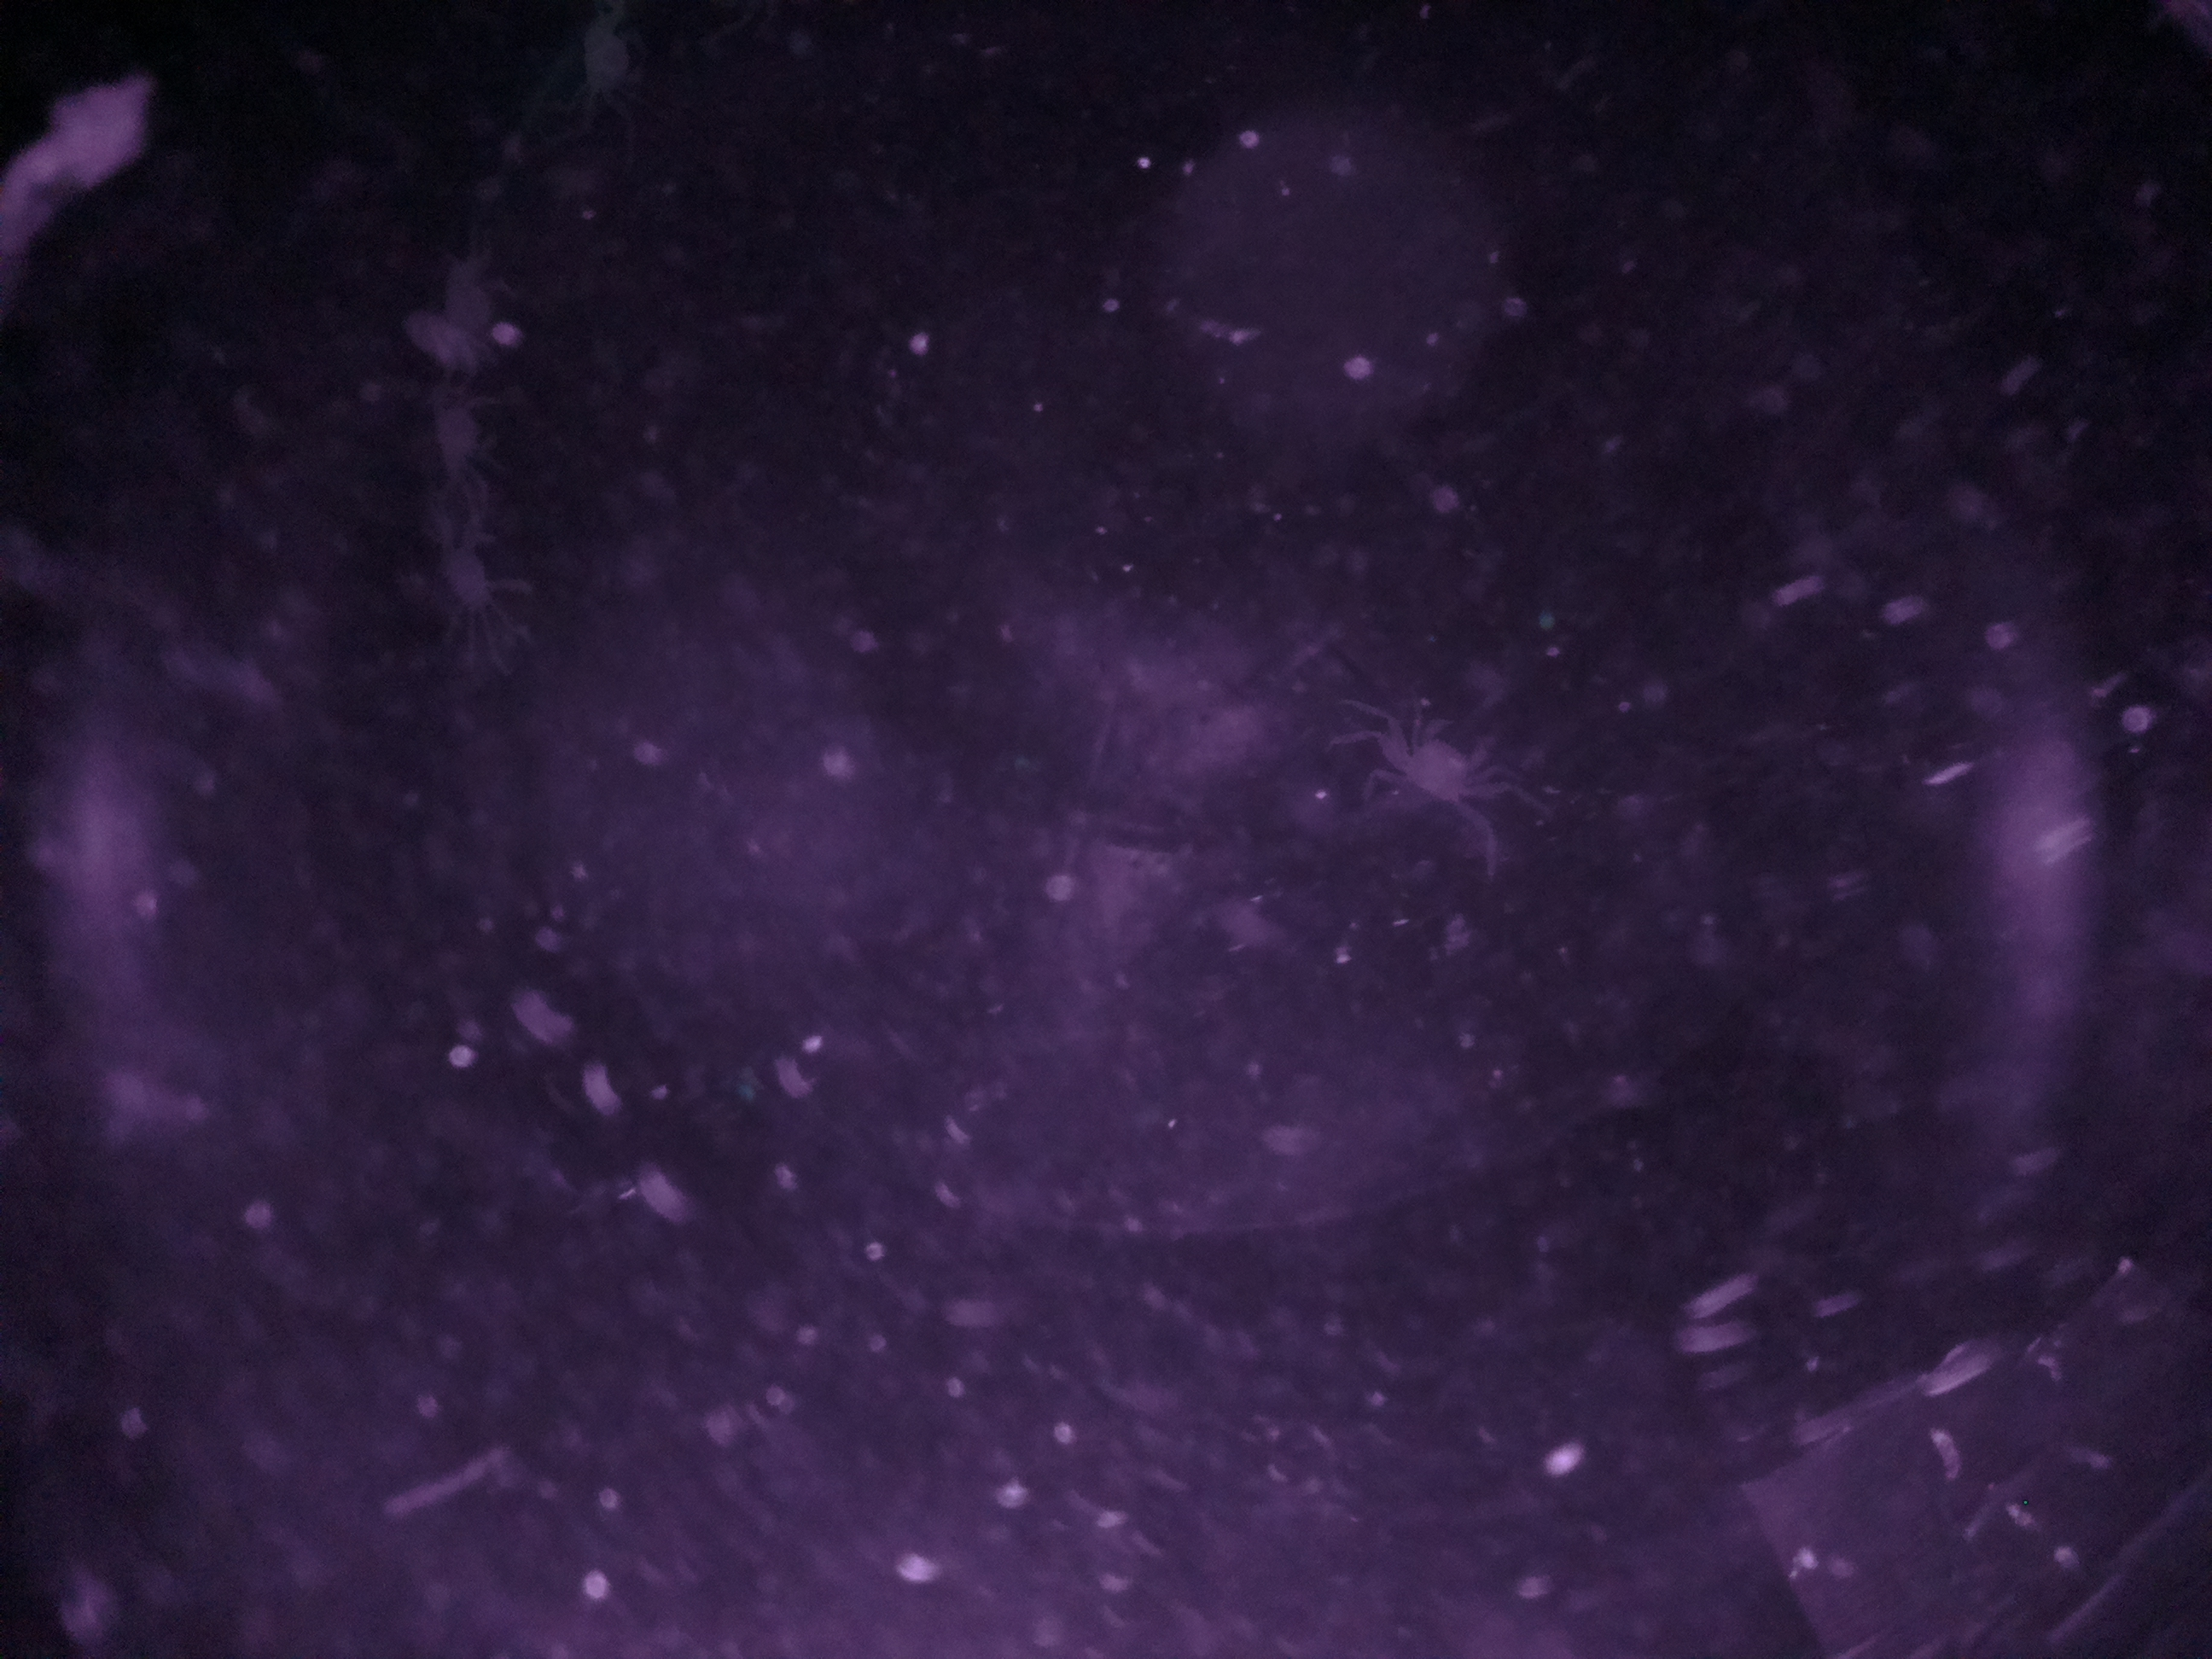Crab: (1372, 695, 1524, 840)
